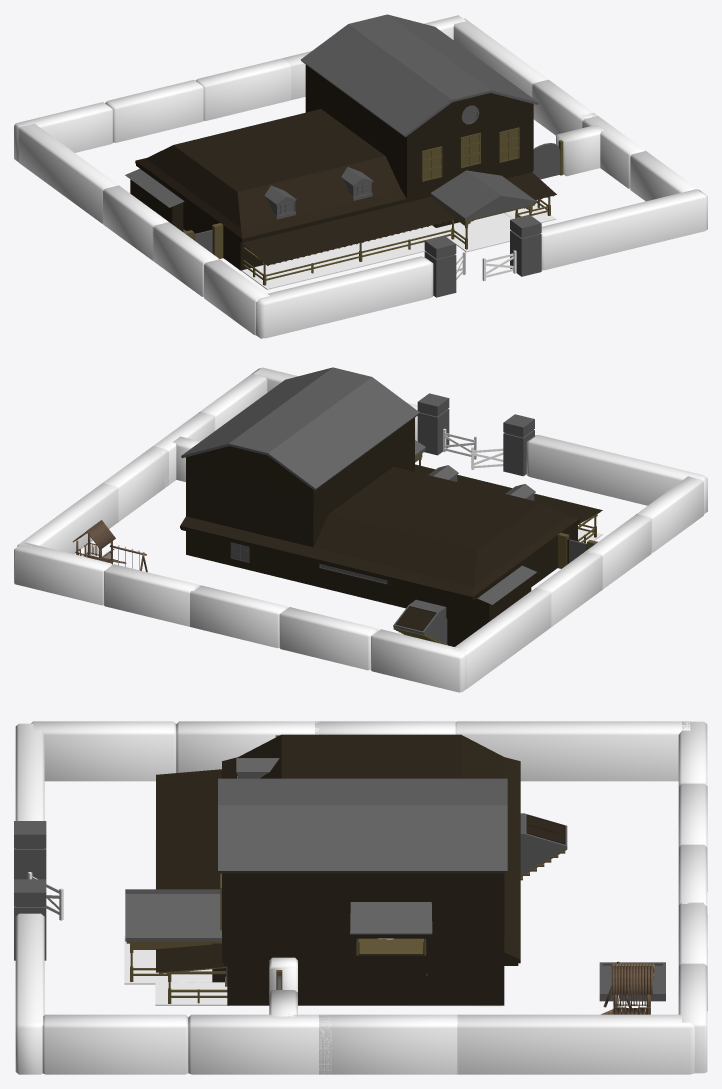
The model's file is casita5.glb.
3 views of the same model, one above another, from view 1: azimuth 30°, elevation 25°; view 2: azimuth 150°, elevation 25°; view 3: azimuth 270°, elevation 25° (orthographic). The views are drawn at different scales.
Visible parts, largest first — view 1: Cube.038-col, Ar21.011-col, 1st_floor-col.001, Cube.009-col.001, Plane.010-col, Cube.033-col, V3.004; view 2: Cube.038-col, Ar21.011-col, Cube.009-col.001, Playground-col, Plane.010-col, Cube.047-col.002, Cube.008-col.001; view 3: Cube.038-col, Ar21.011-col, Cube.037-col, 1st_floor-col.001, Cube.009-col.001, Playground-col, Cube.012-col.001, Plane.010-col, Cube.008-col.001, Plane.013-col.
Part boxes in pixels (x1,y1,x2,y2): Cube.038-col: (130,14,556,285); Ar21.011-col: (14,15,707,338); 1st_floor-col.001: (241,204,556,289); Cube.009-col.001: (424,215,541,297); Plane.010-col: (125,168,184,207); Cube.033-col: (183,140,563,258); V3.004: (482,250,516,280); Cube.038-col: (180,367,602,646); Ar21.011-col: (14,367,707,692); Cube.009-col.001: (417,393,534,476); Playground-col: (72,520,147,572); Plane.010-col: (477,565,536,604); Cube.047-col.002: (230,542,387,584); Cube.008-col.001: (393,599,446,634); Cube.038-col: (125,734,520,1005); Ar21.011-col: (15,721,707,1074); Cube.037-col: (350,902,432,976); 1st_floor-col.001: (124,841,501,1006); Cube.009-col.001: (14,821,46,960); Playground-col: (601,961,654,1014); Cube.012-col.001: (599,962,665,1001); Plane.010-col: (358,938,423,953); Cube.008-col.001: (520,813,567,849); Plane.013-col: (520,849,566,876).
Bounding box in the file's own units: 50.05 × 16.24 × 48.07.
Materials: 12 (3 with a texture image).
